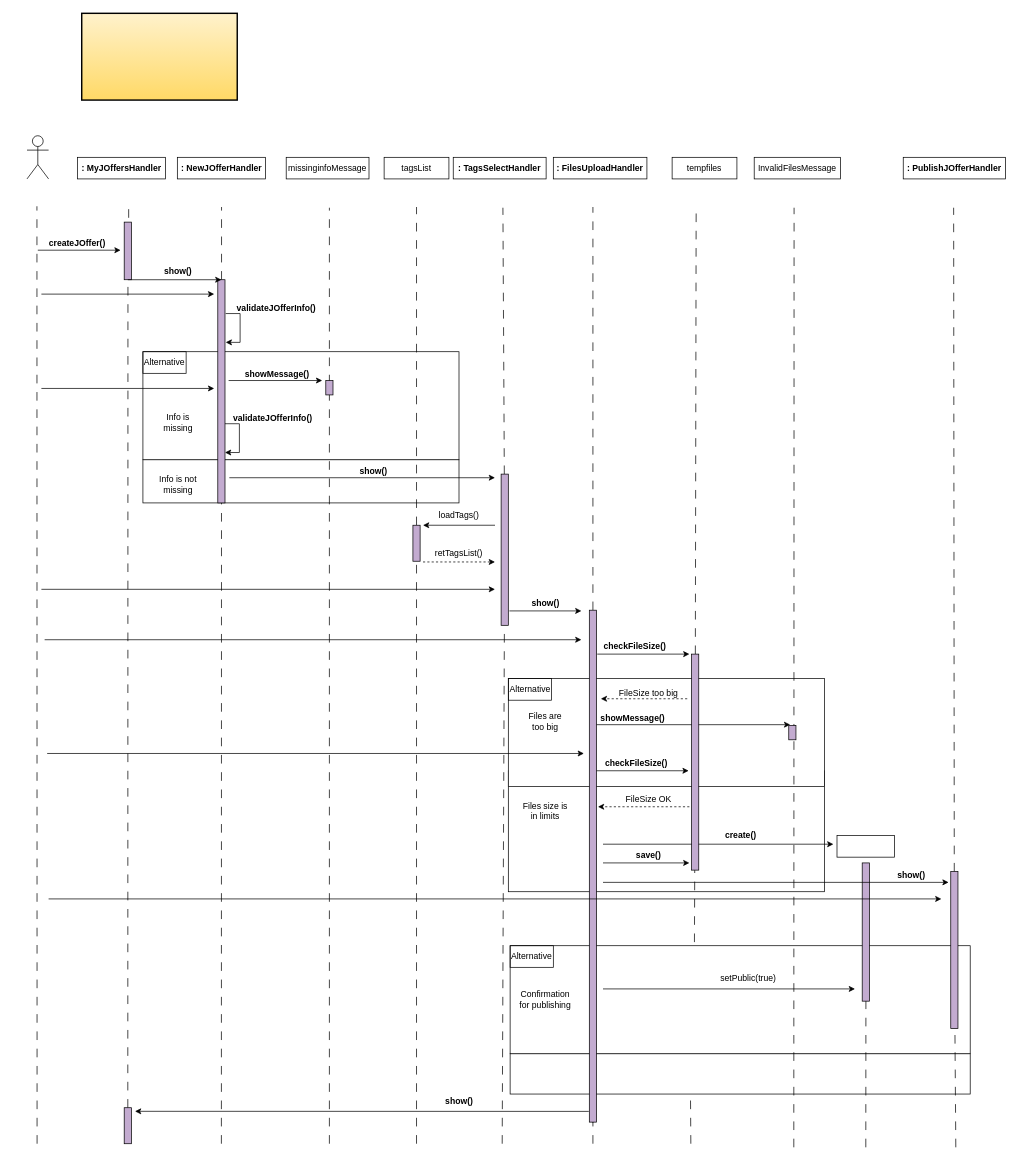
Some shapes in this 1018 by 1161 pixel diagram are drawn without their labels. The shapes that lost their labels are listed below. From the top down, each one's centre as x and y in pixels, then its label:
At pixel 159 56: "ΤΗ ΣΕΛΙΔΑ 2 ΚΟΙΤΑΜΕ!!!!".
At pixel 37 157: "Πολιτιστικός Οργανισμός".
At pixel 865 846: "New : JOffer".
At pixel 739 1073: "Confirmation for saving".
